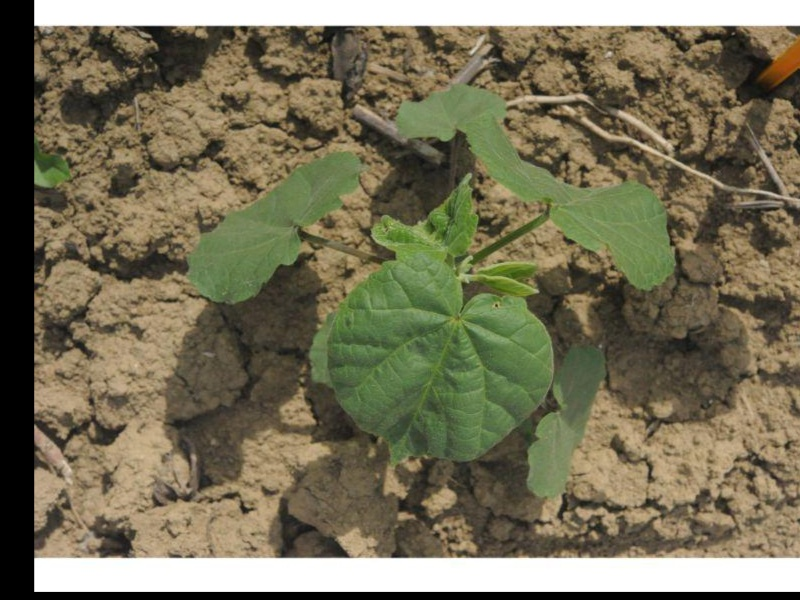velvet: (184, 83, 677, 497)
